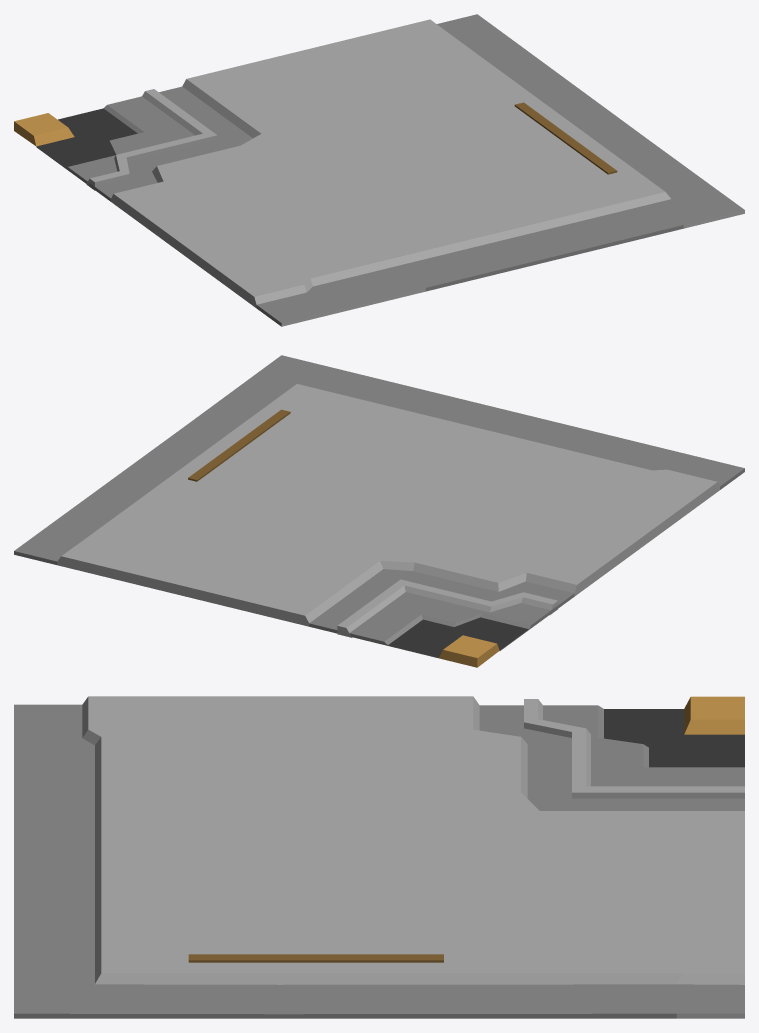
The model's file is FloorTile_InnerCorner.gltf.
3 views of the same model, one above another, from view 1: azimuth 30°, elevation 25°; view 2: azimuth 150°, elevation 25°; view 3: azimuth 270°, elevation 25° (orthographic). The views are drawn at different scales.
Parts seen in each view (by area): view 1: FloorTile_InnerCorner; view 2: FloorTile_InnerCorner; view 3: FloorTile_InnerCorner.
Part boxes in pixels (x1,y1,x2,y2): FloorTile_InnerCorner: (14,14,744,326); FloorTile_InnerCorner: (14,355,744,667); FloorTile_InnerCorner: (14,696,744,1018).
Bounding box in the file's own units: 2 × 0.051 × 2.
